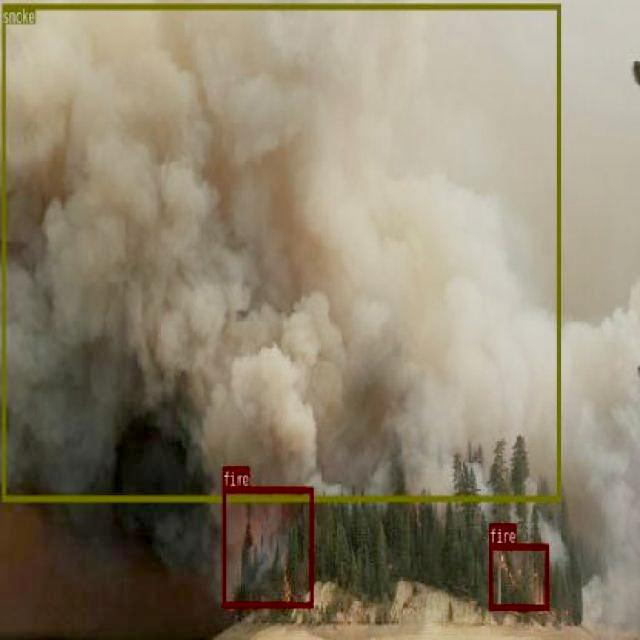fire: (222, 486, 312, 606), (488, 544, 548, 608)
smoke: (2, 3, 560, 500)
